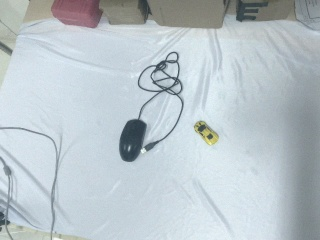box: (49, 1, 101, 28), (235, 1, 297, 23), (101, 1, 149, 27)
mouse: (119, 119, 147, 163)
toy_car: (191, 118, 223, 148)
